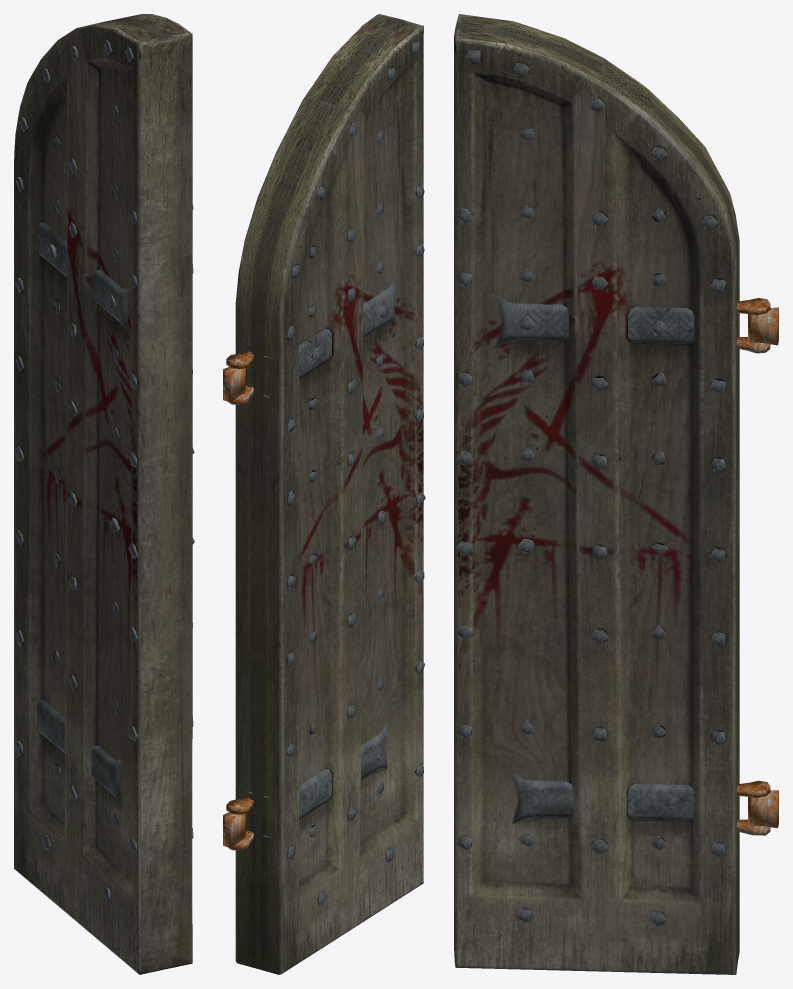
The model's file is SM_ChurchDoor01.fbx.
3 views of the same model, side by side, from view 1: azimuth 30°, elevation 25°; view 2: azimuth 150°, elevation 25°; view 3: azimuth 270°, elevation 25° (orthographic). The views are drawn at different scales.
Parts seen in each view (by area): view 1: SM_ChurchDoor01_LOD0; view 2: SM_ChurchDoor01_LOD0; view 3: SM_ChurchDoor01_LOD0.
Part boxes in pixels (x1,y1,x2,y2): SM_ChurchDoor01_LOD0: [14, 14, 194, 974]; SM_ChurchDoor01_LOD0: [223, 14, 425, 974]; SM_ChurchDoor01_LOD0: [454, 14, 778, 974].
Size of the model in its own units: 25.5 by 99.28 by 314.
